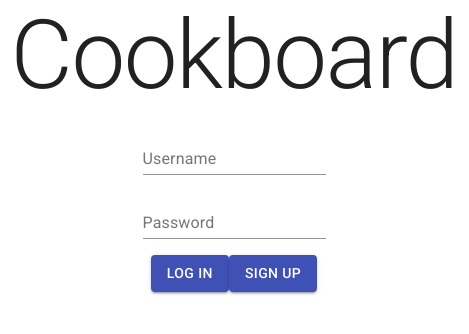
Test case: tests for LoginWindow. › With no user credentials stored › if the password is cleared an error message is displayed
Type "password" into the password field with test id "inputPassword". click: (234, 223)
box: [142,207,326,239]
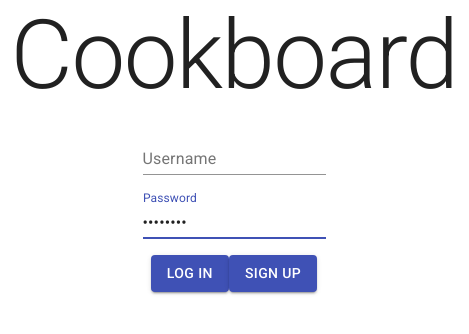
Clear the password field with test id "inputPassword". click: (234, 223)
box: [142,207,326,239]
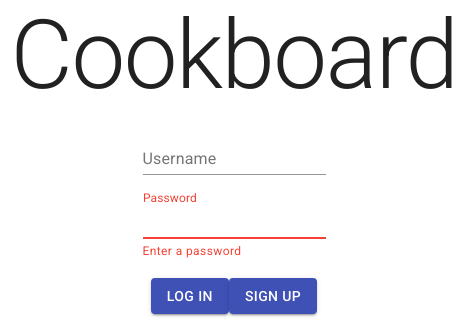
Expected: the text "Enter a password" is shown, [142,244,241,258]
